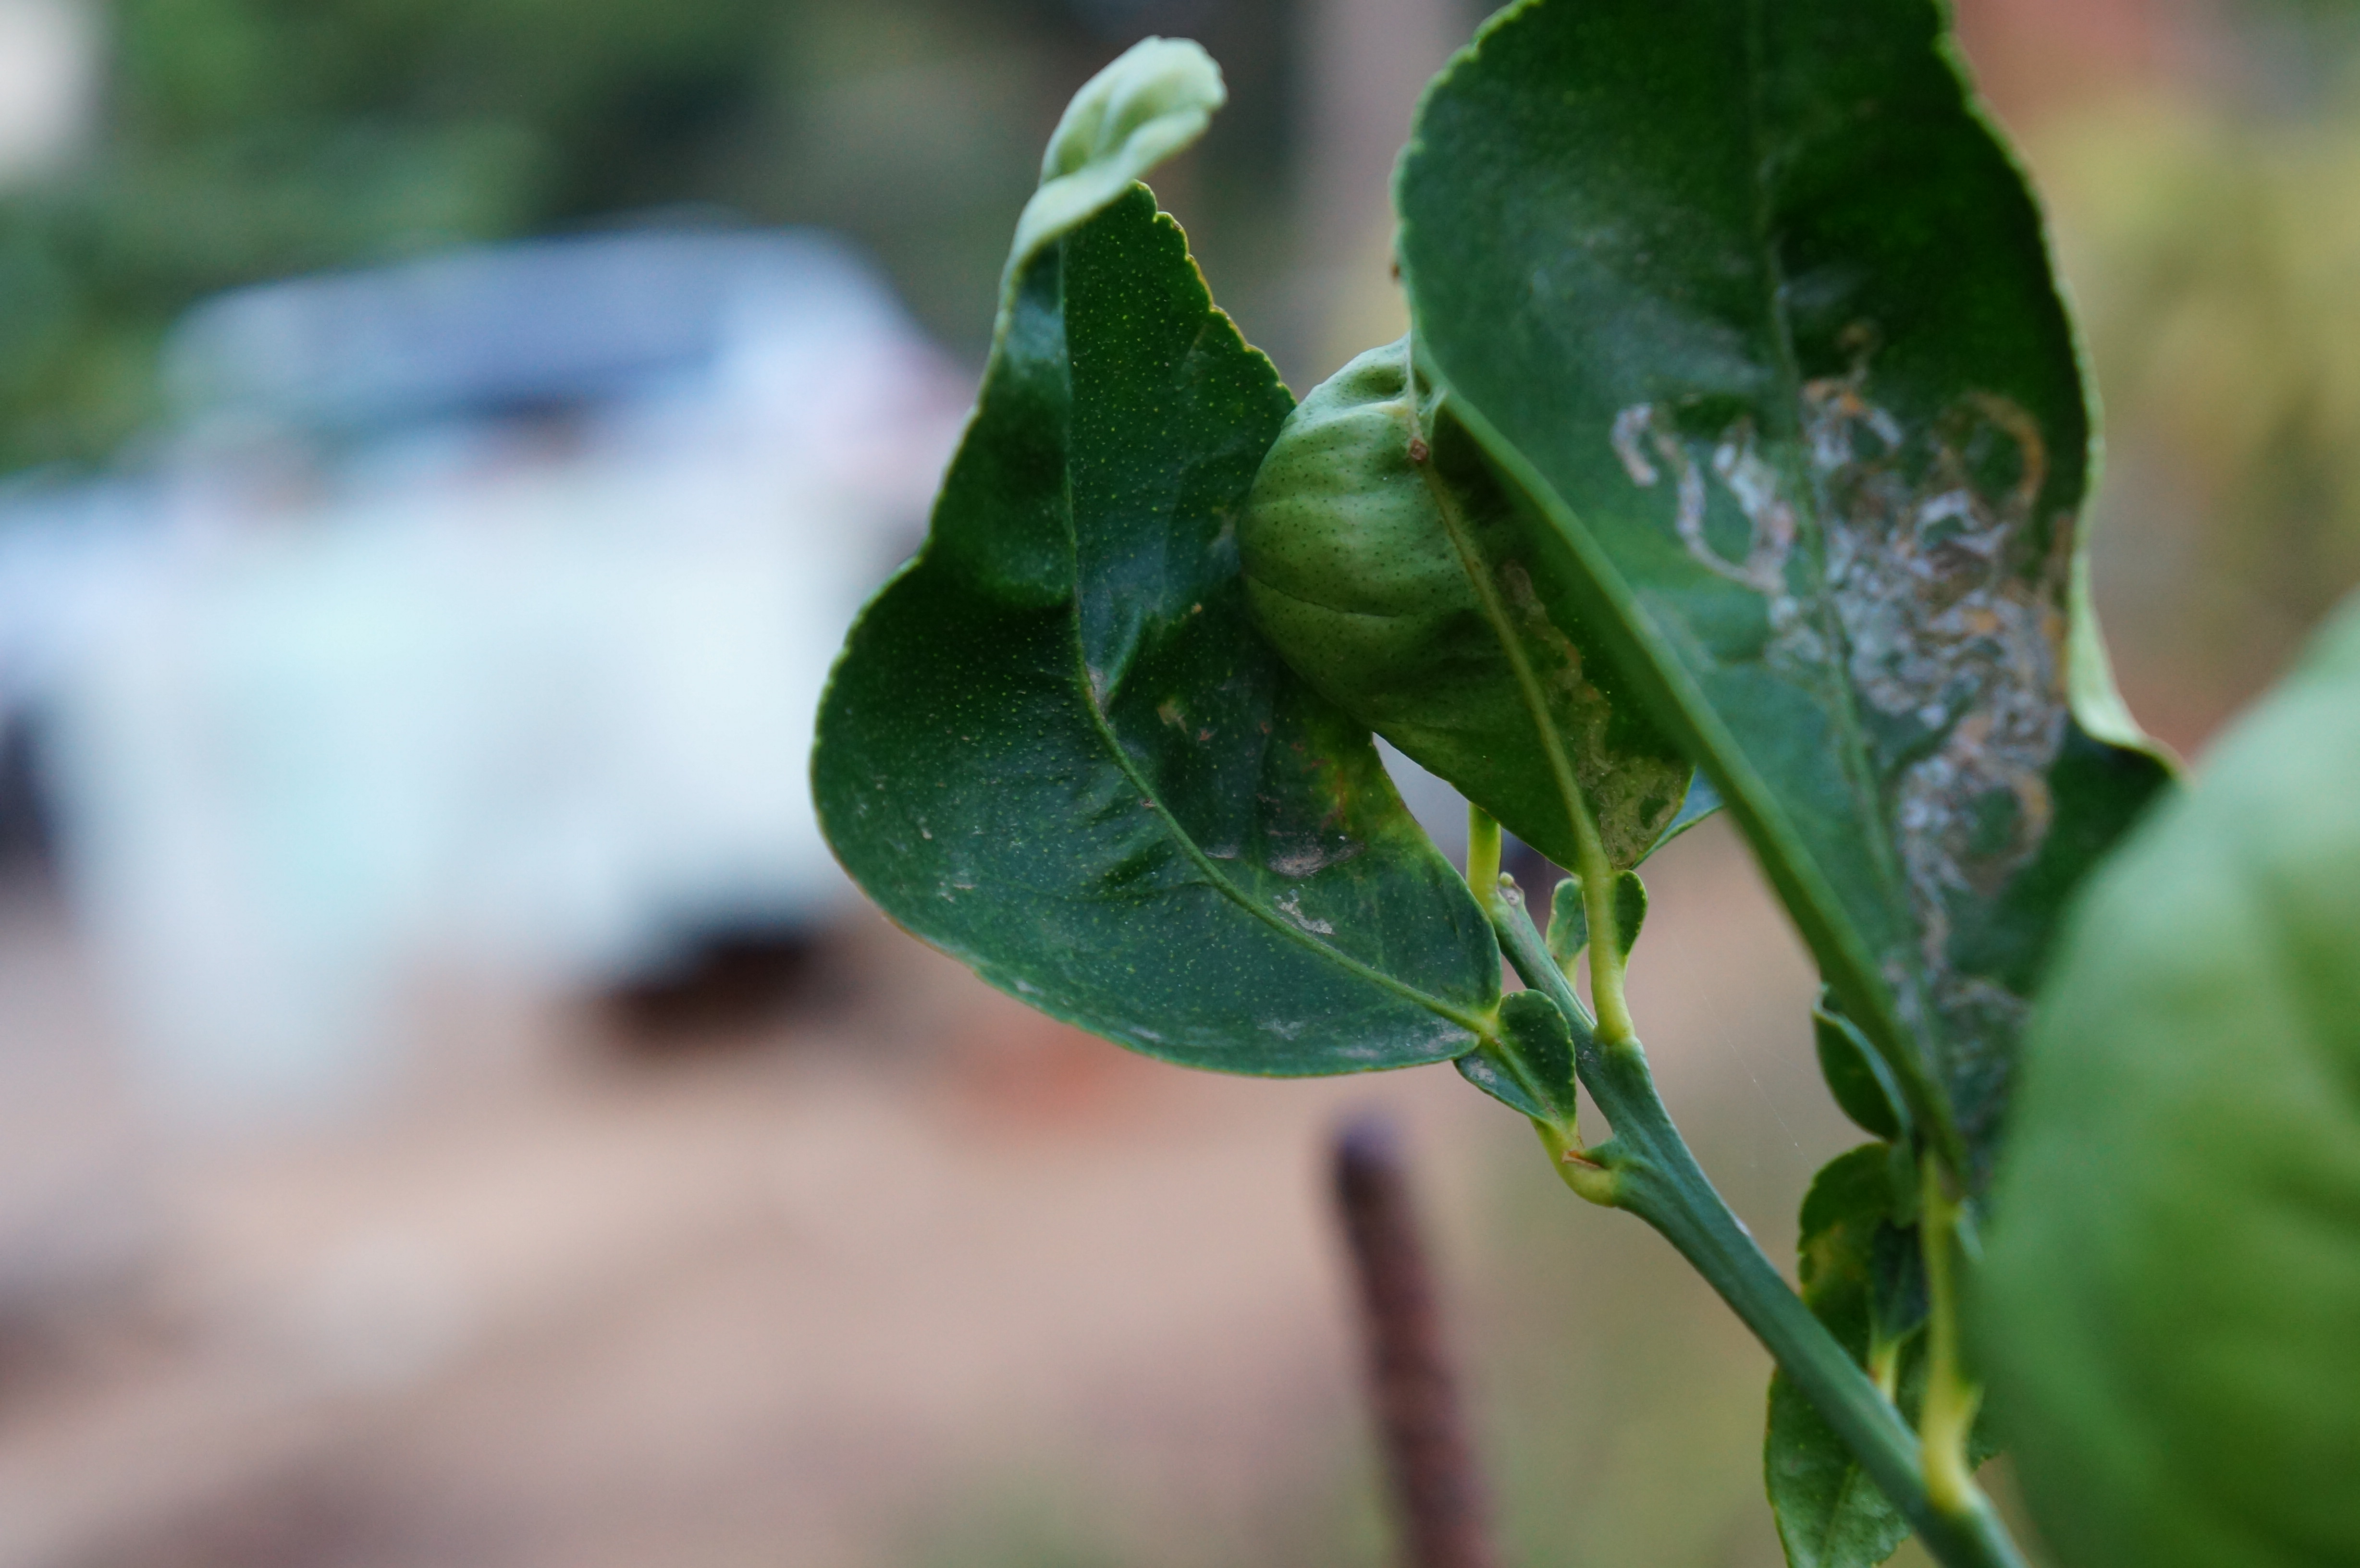damage: (1595, 364, 2085, 1102), (1475, 562, 1699, 891)
